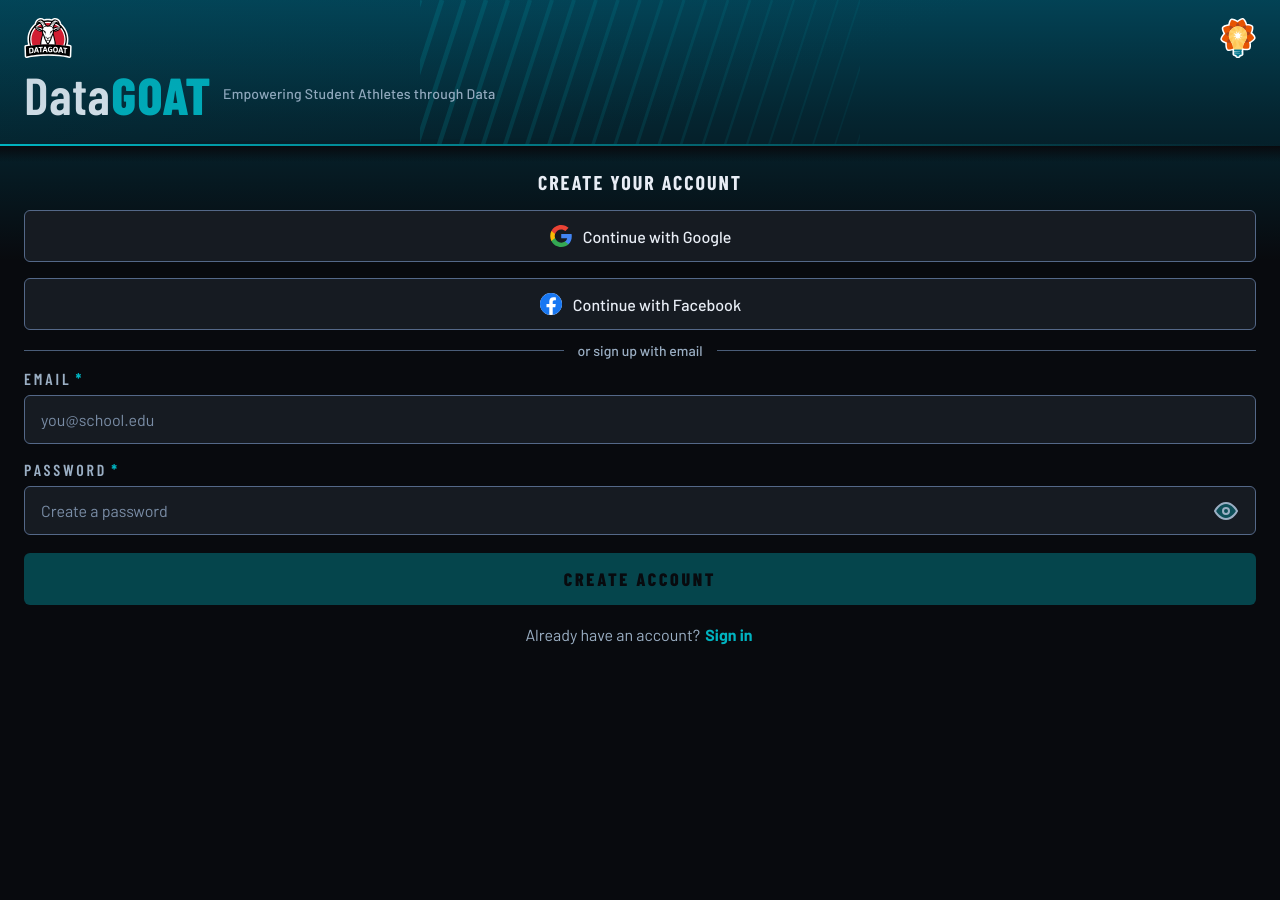
Test: SignupForm › OAuth blocked-no-email path renders the Cloud Function message inline (parity with LoginForm)
This screenshot has width=1280, height=900.
Click the button "Continue with Facebook": (640, 304) [24,278,1256,330]
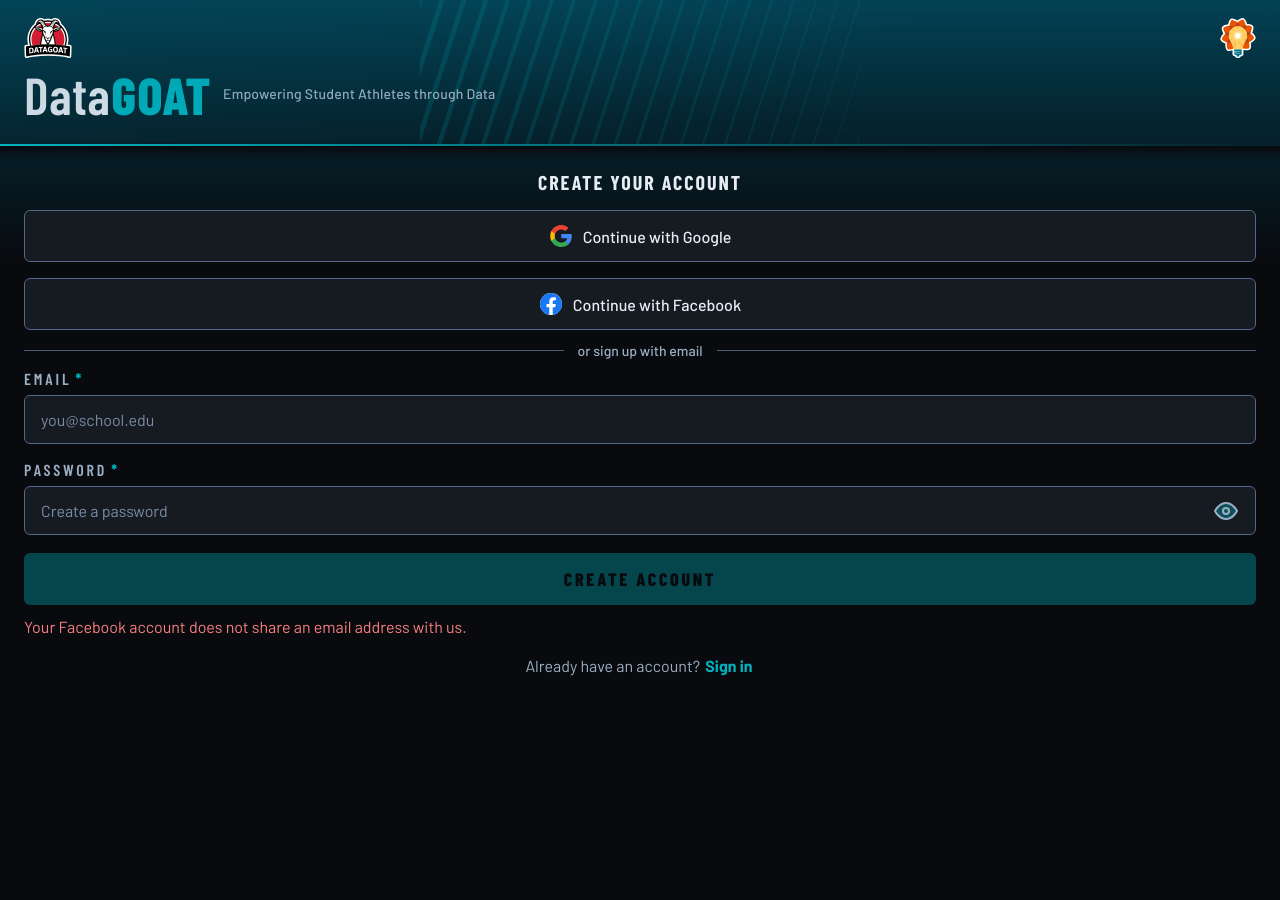
Result: the text "Your Facebook account does not share an email address with us." is shown at [24,617,467,636]
